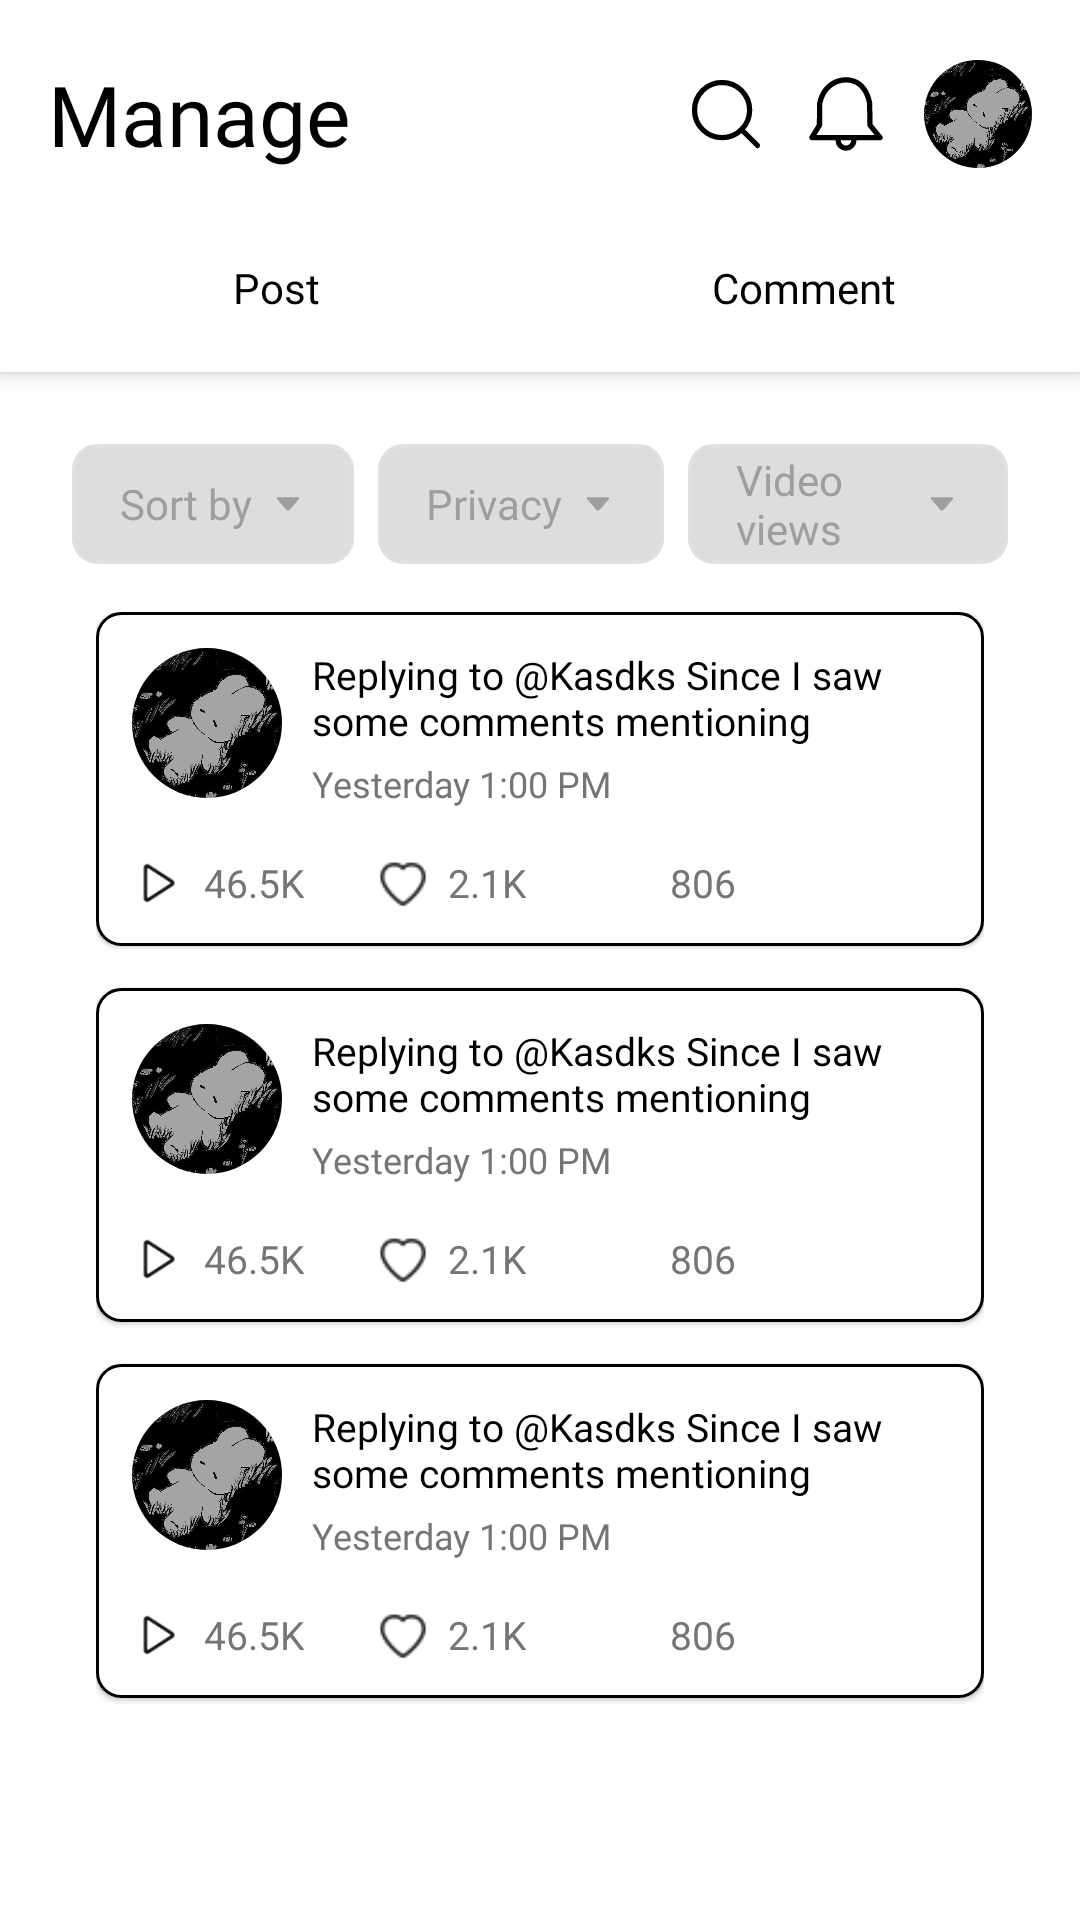

Where to tap for icons on this 1080px x 1920px app screen, as point (x, y):
heart: point (403, 884), point (403, 1260), point (403, 1636)
Notifications: point (846, 114)
play: point (159, 883), point (159, 1259), point (159, 1635)
Search: point (726, 114)
